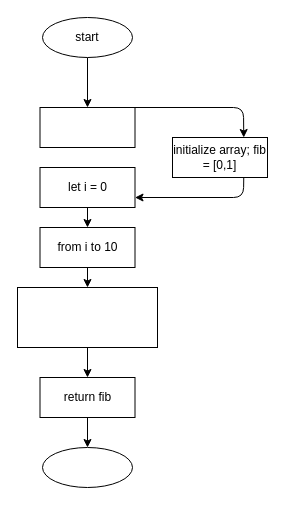
The diagram is 285 pixels wide and 505 high, and some of its shapes have lost their labels. Here are the shapes that lost their labels. From the top down, the centre of each, then its label:
[87,127]: get limit n
[87,317]: fib.push(fib(i) + fib(i+1))
[87,467]: end
